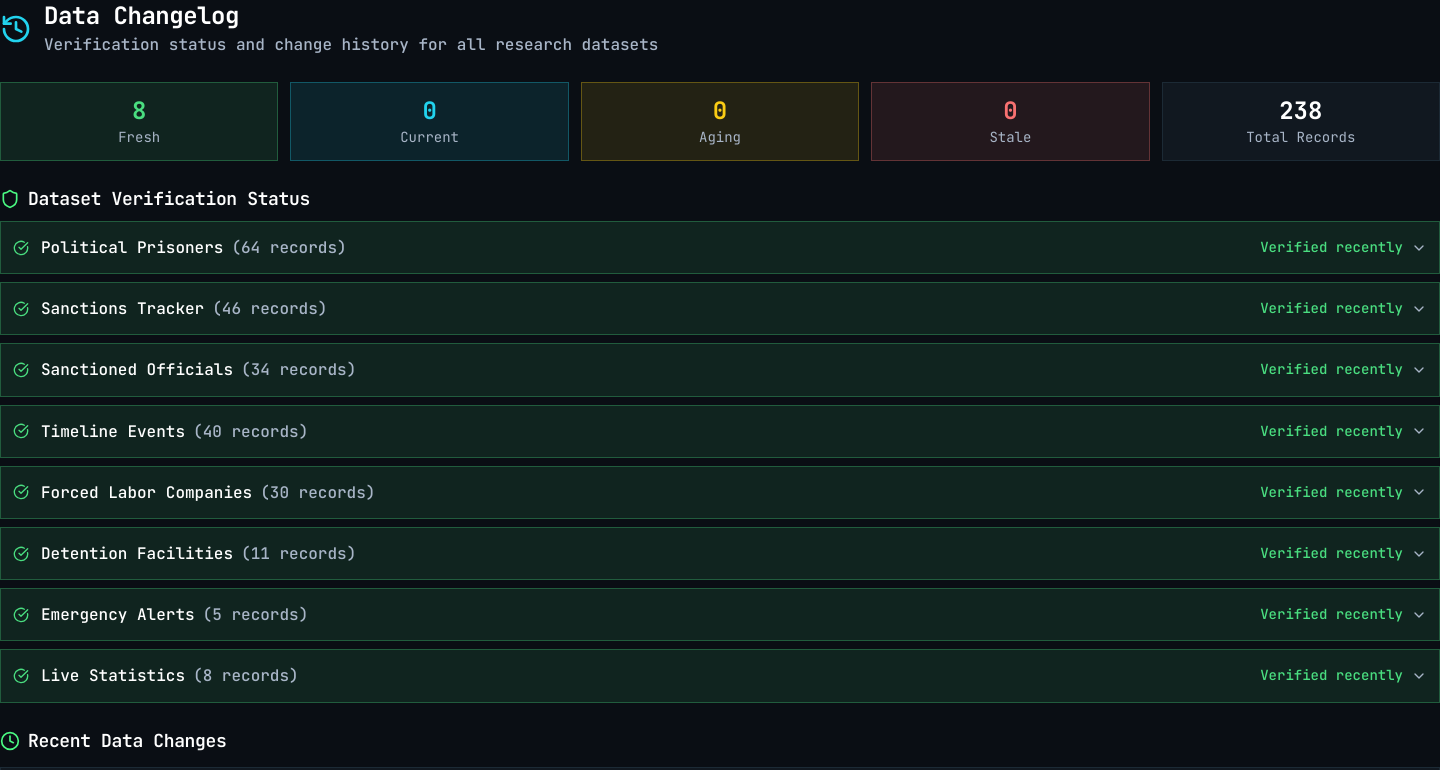
Test: DataChangelog › expands dataset details when clicked
The width and height of the screenshot is (1440, 770).
Click the button "Political Prisoners".
click(132, 248)  # box [1, 222, 1439, 273]
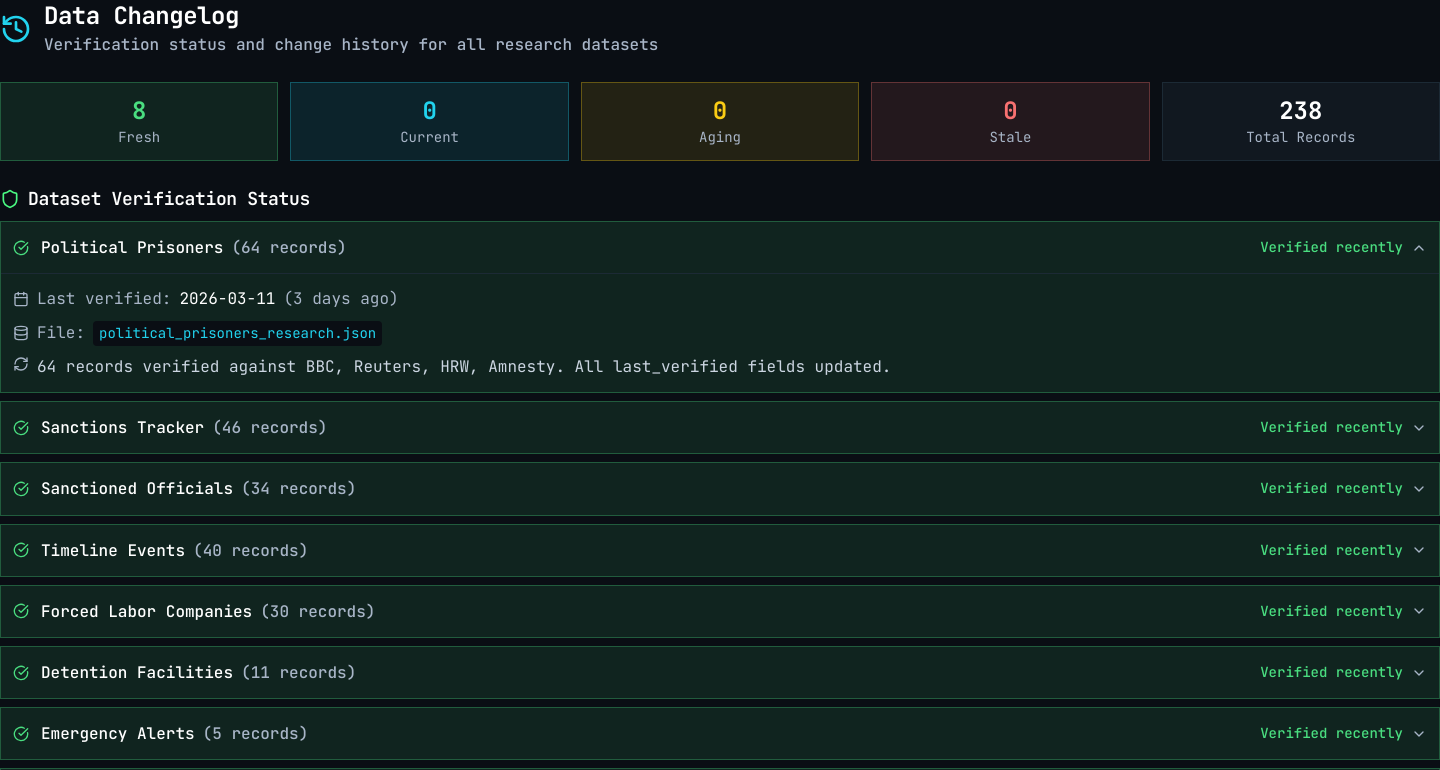
Expected: the text "Last verified:" is shown, [37, 286, 171, 312]
Expected: the text "political_prisoners_research.json" is shown, [93, 321, 382, 346]
